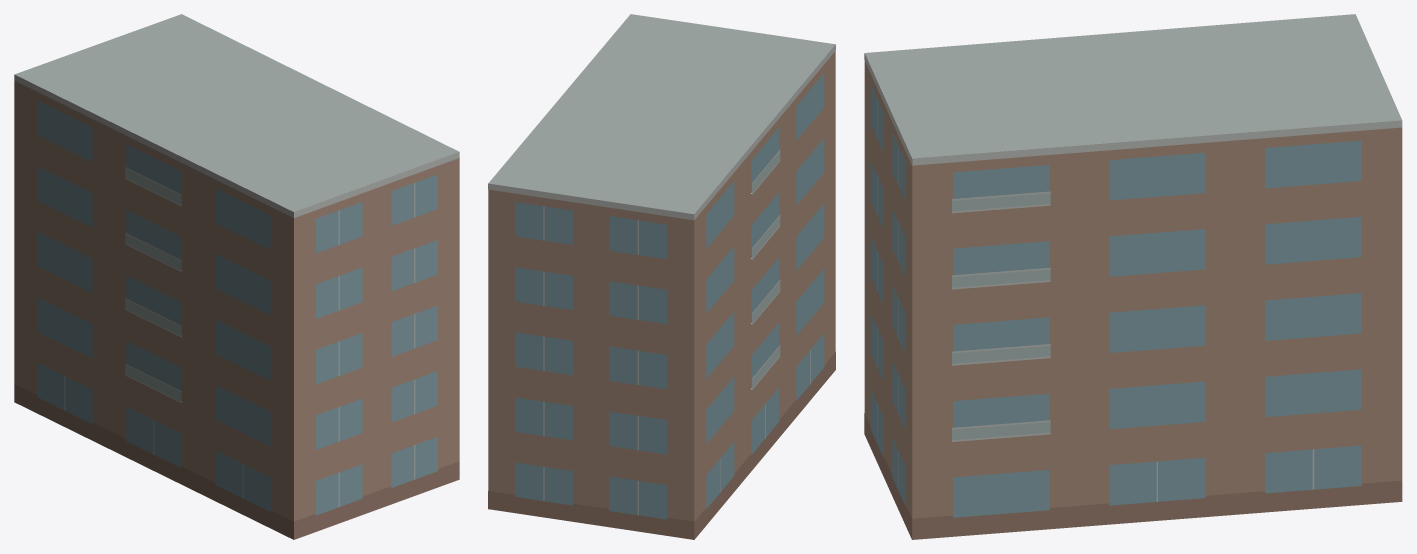
File: survey-upis-32979936.glb
3 views of the same model, side by side, from view 1: azimuth 30°, elevation 25°; view 2: azimuth 150°, elevation 25°; view 3: azimuth 270°, elevation 25° (orthographic). The views are drawn at different scales.
Visible parts, largest first — view 1: survey-upis-32979936.tmp; view 2: survey-upis-32979936.tmp; view 3: survey-upis-32979936.tmp.
Part boxes in pixels (x1,y1,x2,y2): survey-upis-32979936.tmp: [14, 14, 459, 539]; survey-upis-32979936.tmp: [488, 14, 835, 539]; survey-upis-32979936.tmp: [864, 14, 1402, 539].
Bounding box in the file's own units: 10.75 × 13.2 × 16.89.
